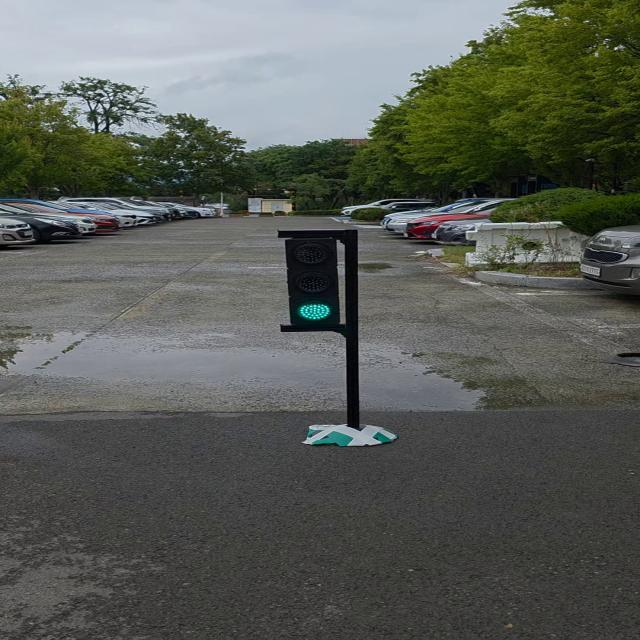green: (283, 233, 358, 330)
